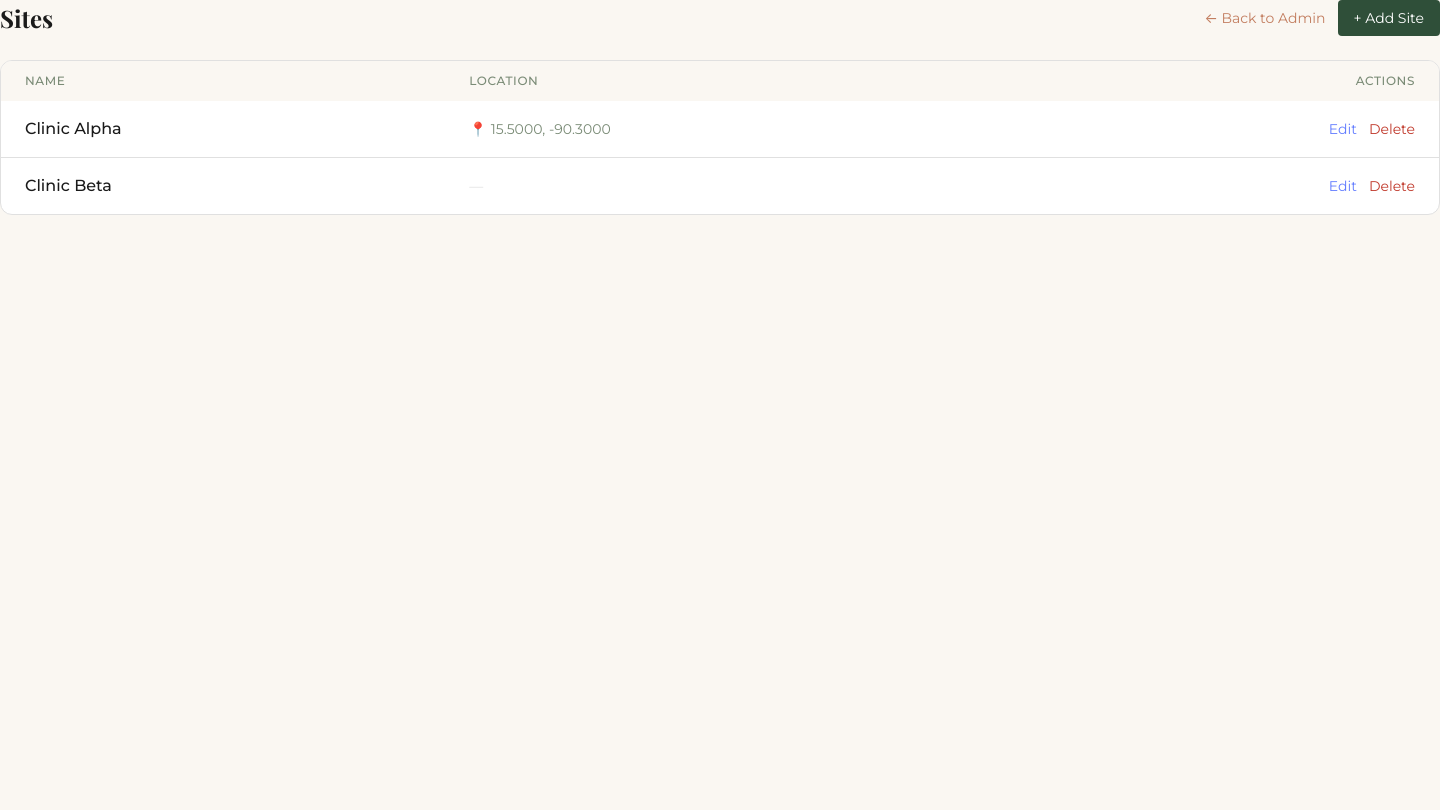
Test: AdminSitesPage › delete confirmation › opens the ConfirmDialog instead of window.confirm
This screenshot has width=1440, height=810.
Expected: the text "Clinic Alpha" is shown, [1, 101, 445, 158]
Click the button "Delete" in the row of "Clinic Alpha". click: {"x": 1392, "y": 129}
box: [1369, 119, 1415, 139]
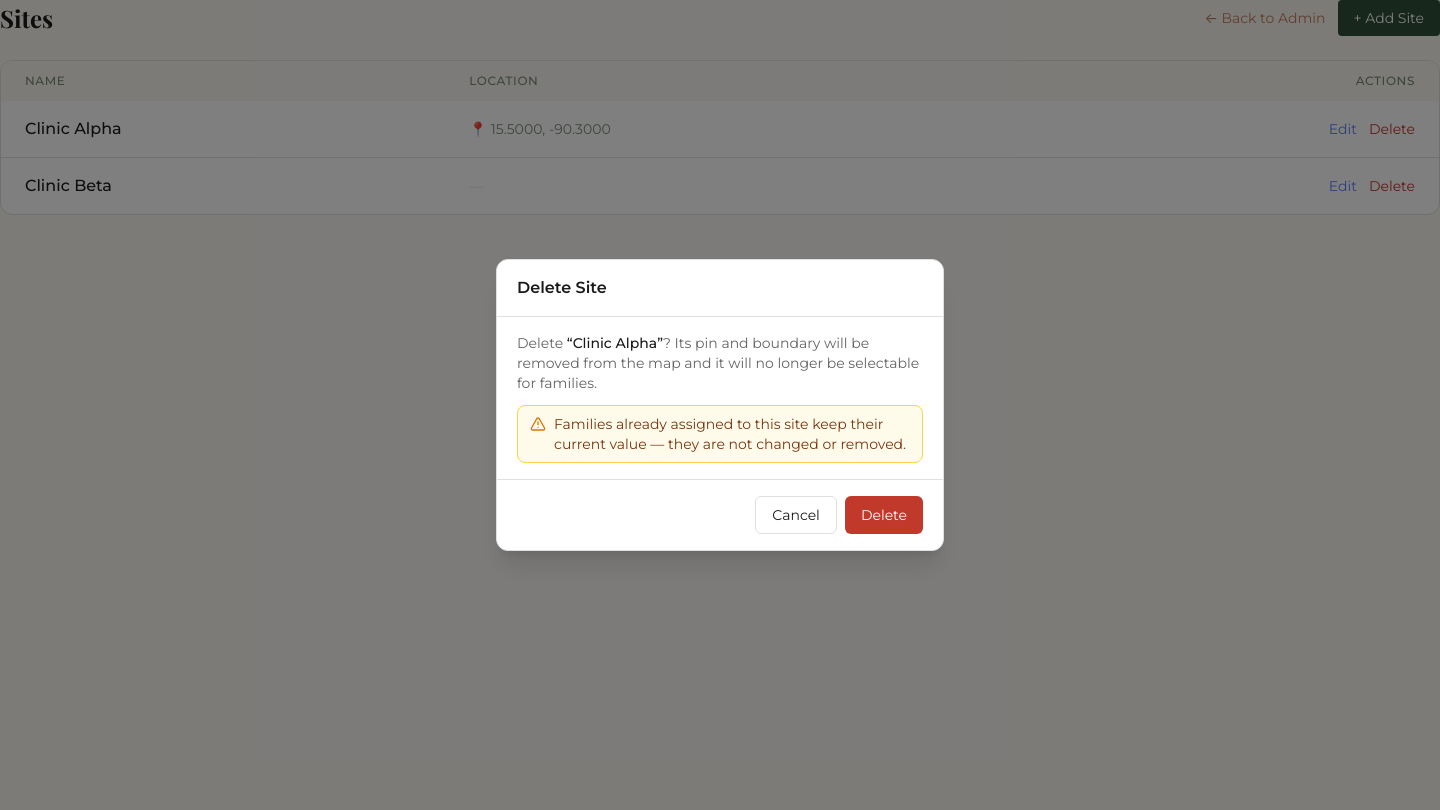
Expected: the heading "Delete Site" is shown, [517, 278, 607, 297]
Expected: the text "“Clinic Alpha”" is shown, [567, 334, 663, 352]
